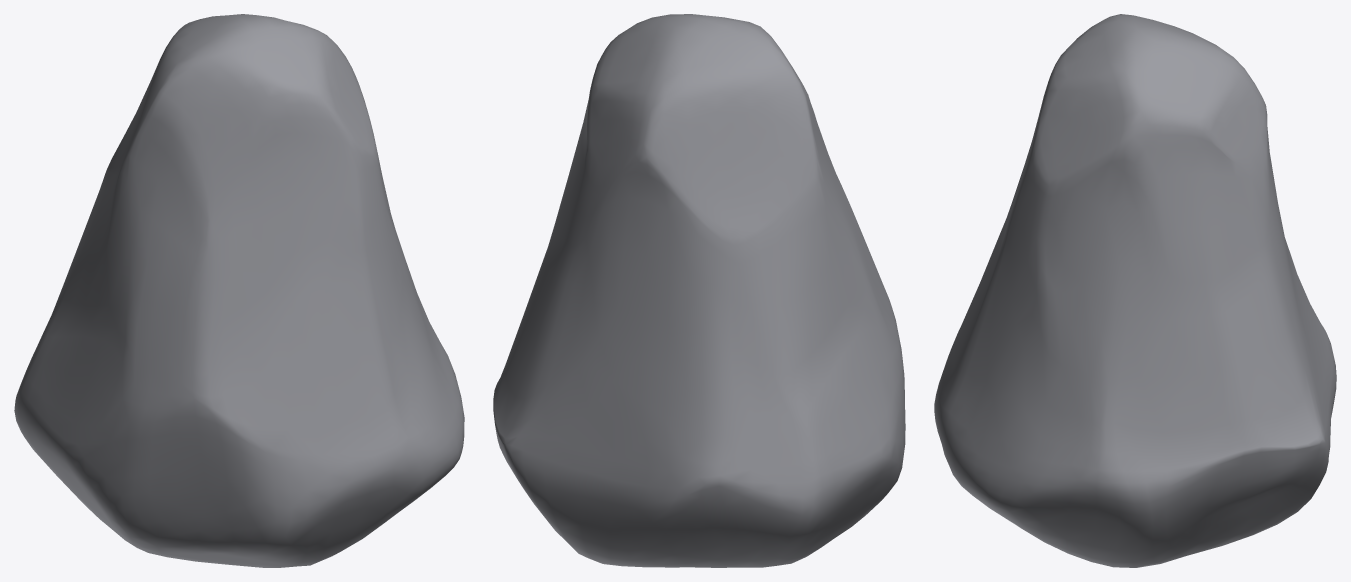
Rendered from environment-rock-2.glb.
3 renders of one model, left to right at view 1: azimuth 30°, elevation 25°; view 2: azimuth 150°, elevation 25°; view 3: azimuth 270°, elevation 25°, orthographic. The views are drawn at different scales.
Parts seen in each view (by area): view 1: Environment_Rock_2; view 2: Environment_Rock_2; view 3: Environment_Rock_2.
Part boxes in pixels (x1,y1,x2,y2): Environment_Rock_2: (14,14,464,567); Environment_Rock_2: (493,14,905,567); Environment_Rock_2: (934,14,1336,567).
Bounding box in the file's own units: 0.7832 × 1.05 × 0.7585.
Materials: 1 (1 with a texture image).
